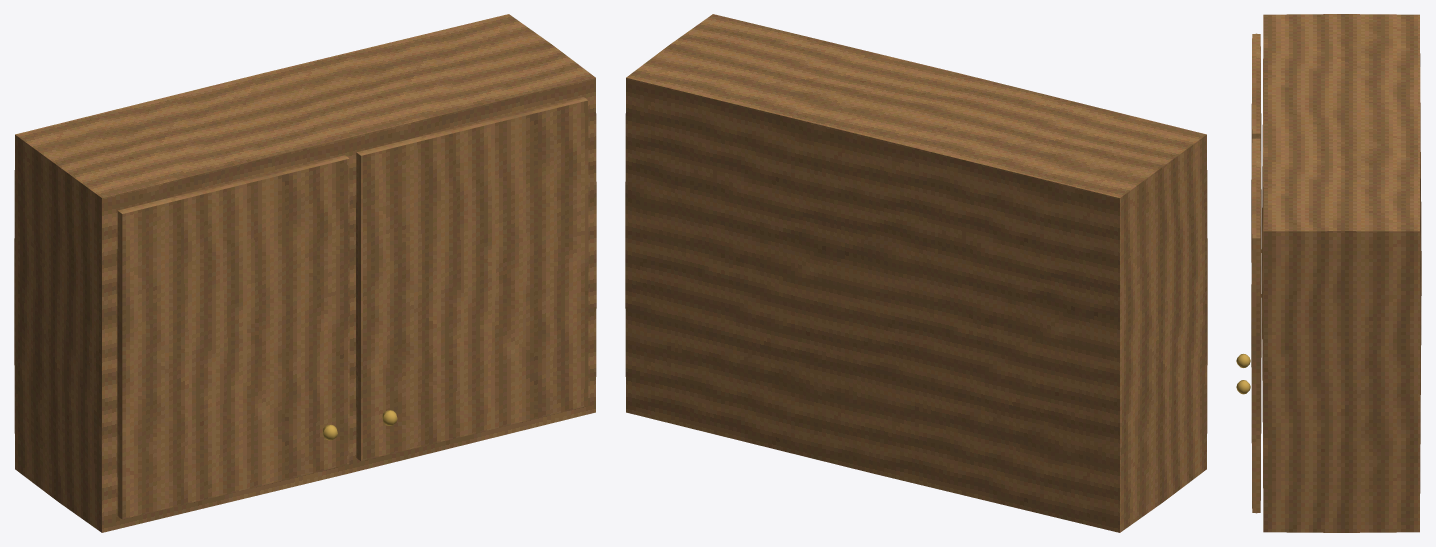
Rendered from upper_cabinet_module.glb.
The picture shows the model from 3 angles, left to right: view 1: azimuth 30°, elevation 25°; view 2: azimuth 150°, elevation 25°; view 3: azimuth 270°, elevation 25°; orthographic projection. The views are drawn at different scales.
Visible parts, largest first — view 1: cabinet, door_L, door_R; view 2: cabinet; view 3: cabinet, door_R, door_L.
Boxes of the visible parts, x1,y1,x2,y2 form: cabinet: (14,14,596,532); door_L: (117,155,349,519); door_R: (356,97,588,460); cabinet: (625,14,1207,532); cabinet: (1261,14,1421,532); door_R: (1251,138,1261,513); door_L: (1251,33,1261,262).
Size of the model in its own units: 1 by 0.65 by 0.359.
2 materials, 1 textured.
